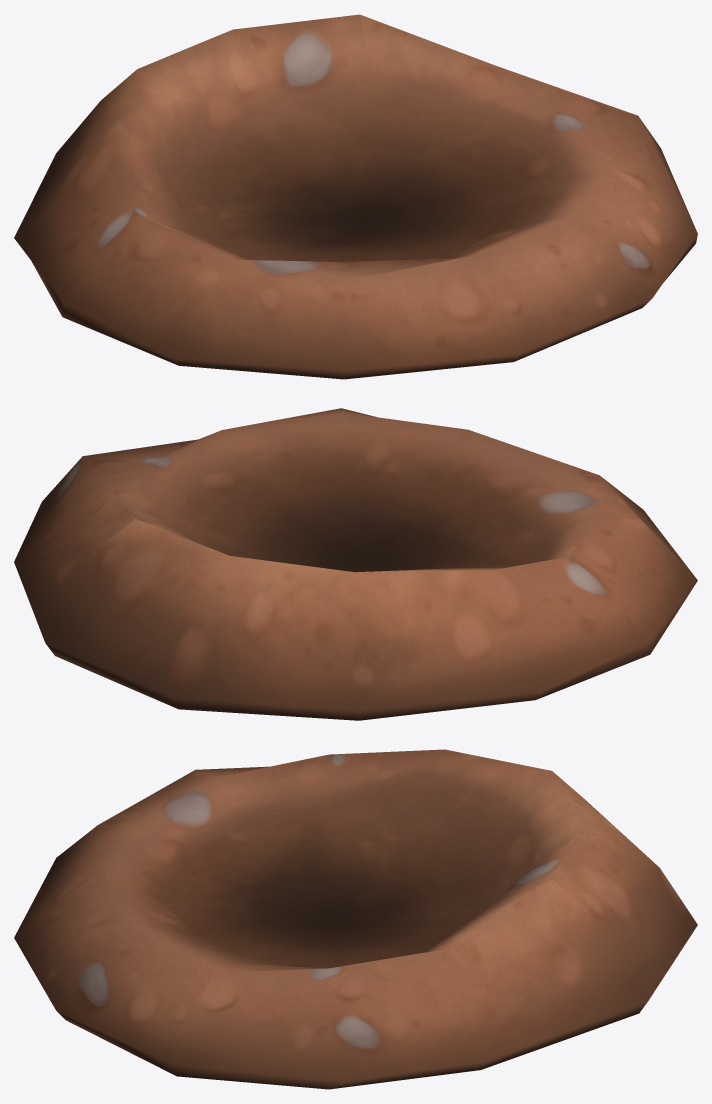
The model's file is hole_model.fbx.
The picture shows the model from 3 angles, top to bottom: view 1: azimuth 30°, elevation 25°; view 2: azimuth 150°, elevation 25°; view 3: azimuth 270°, elevation 25°; orthographic projection.
Parts seen in each view (by area): view 1: hole_model; view 2: hole_model; view 3: hole_model.
Boxes of the visible parts, x1,y1,x2,y2 form: hole_model: (14, 14, 697, 379); hole_model: (14, 408, 697, 720); hole_model: (14, 749, 697, 1089).
Bounding box in the file's own units: 228 × 45.77 × 224.
